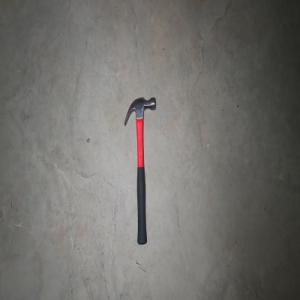Hammer: (123, 96, 156, 245)
